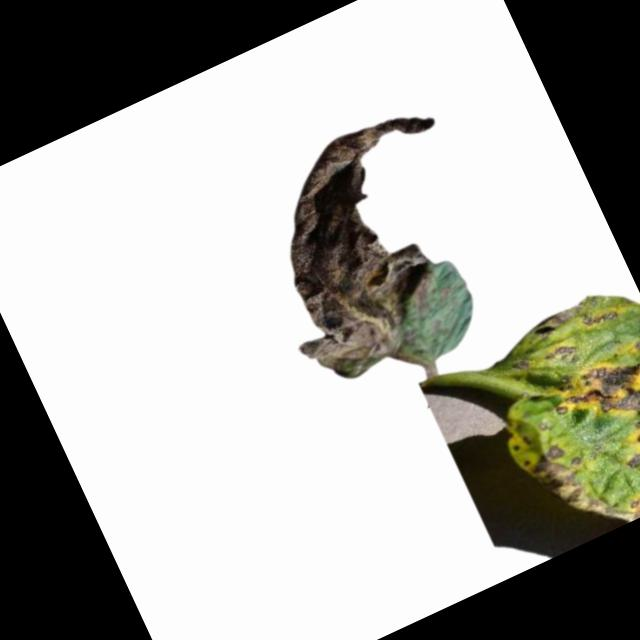Early_blight: (231, 98, 519, 391), (542, 328, 640, 500), (524, 435, 613, 538), (542, 288, 618, 348), (543, 339, 578, 368), (623, 476, 640, 520)
